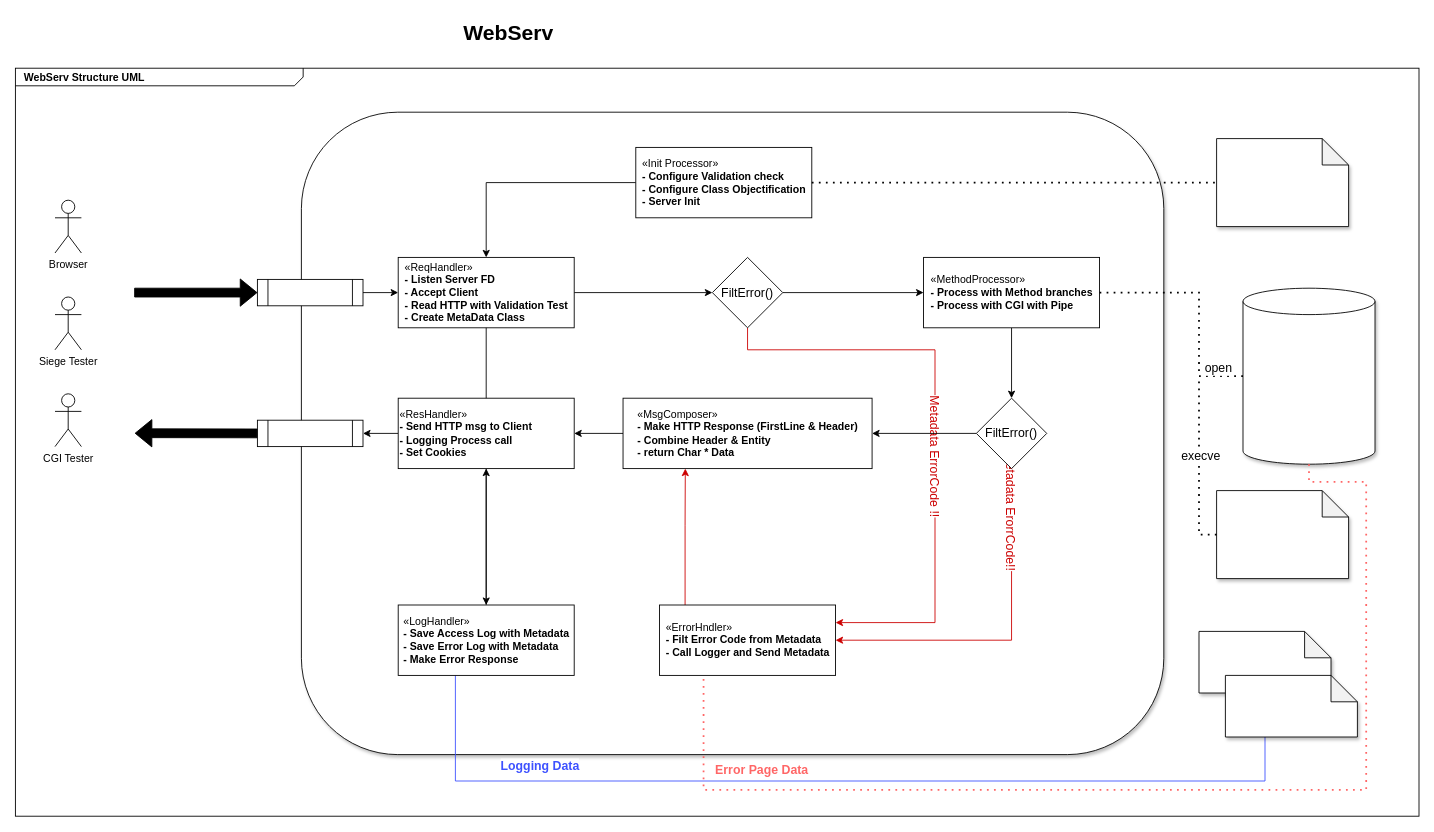
Image size: 1434x832. Some labels were removed from this diagram. Here are the shapes that lost their labels. From the top down, the centre of each, then its label:
At (1283,183): "Configure.conf".
At (310,292): "HTTP INPUT".
At (1309,377): "Static Site Elements".
At (310,433): "HTTP OUTPUT".
At (1283,535): "CGI Program".
At (1265,663): "Access Log".
At (1292,707): "Error Log".
